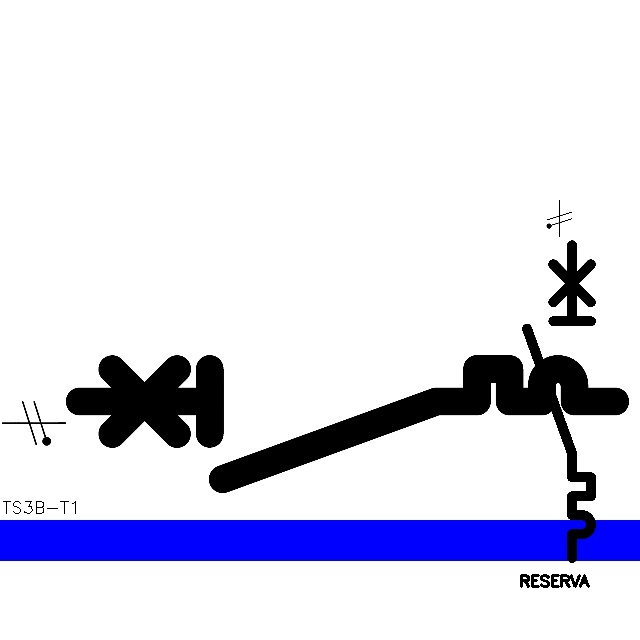interruptor_termomagnetico: (65, 355, 629, 493), (519, 237, 599, 566)
